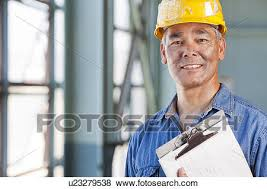Person_wearing_helmet: (148, 0, 226, 59)
